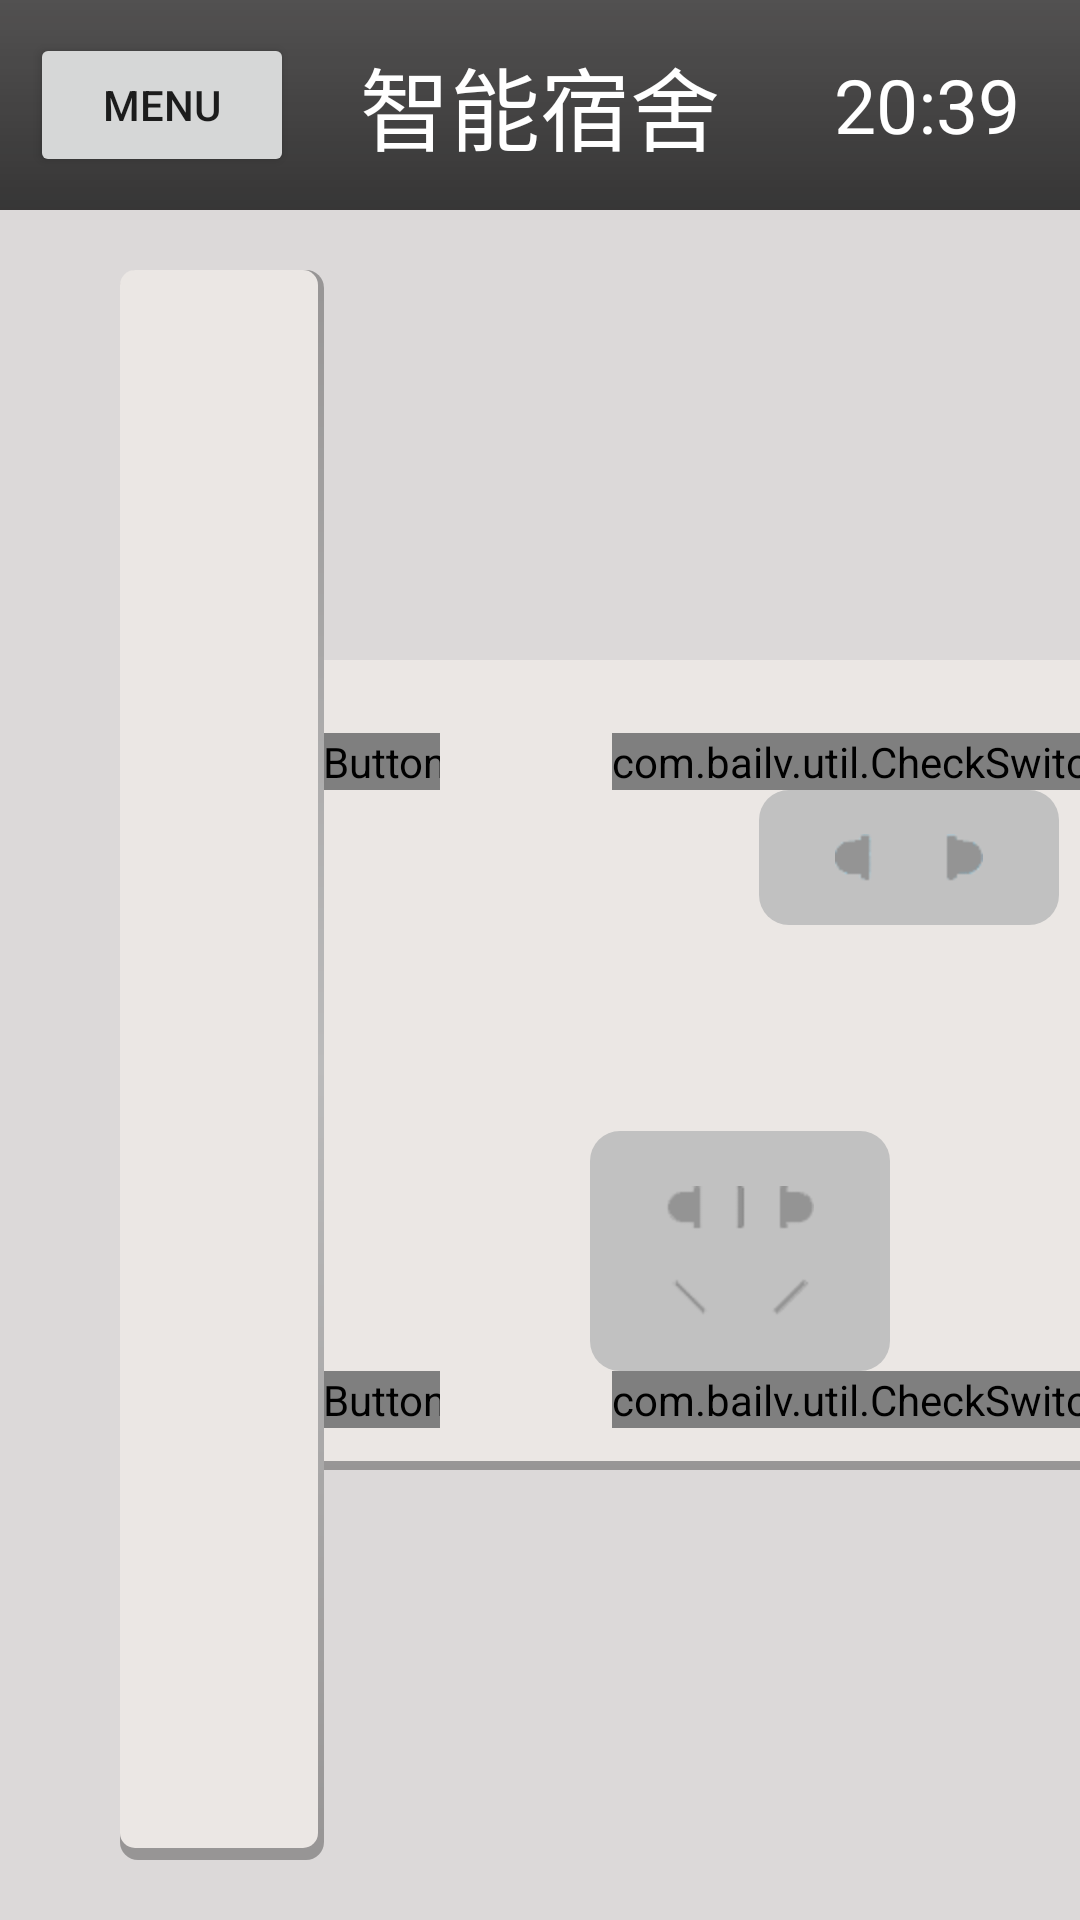

Screen size 1080 × 1920. Icon name, then its center in pixels as (x,y):
chazuo dan un: (909,857)
chazuo san un: (740,1251)
